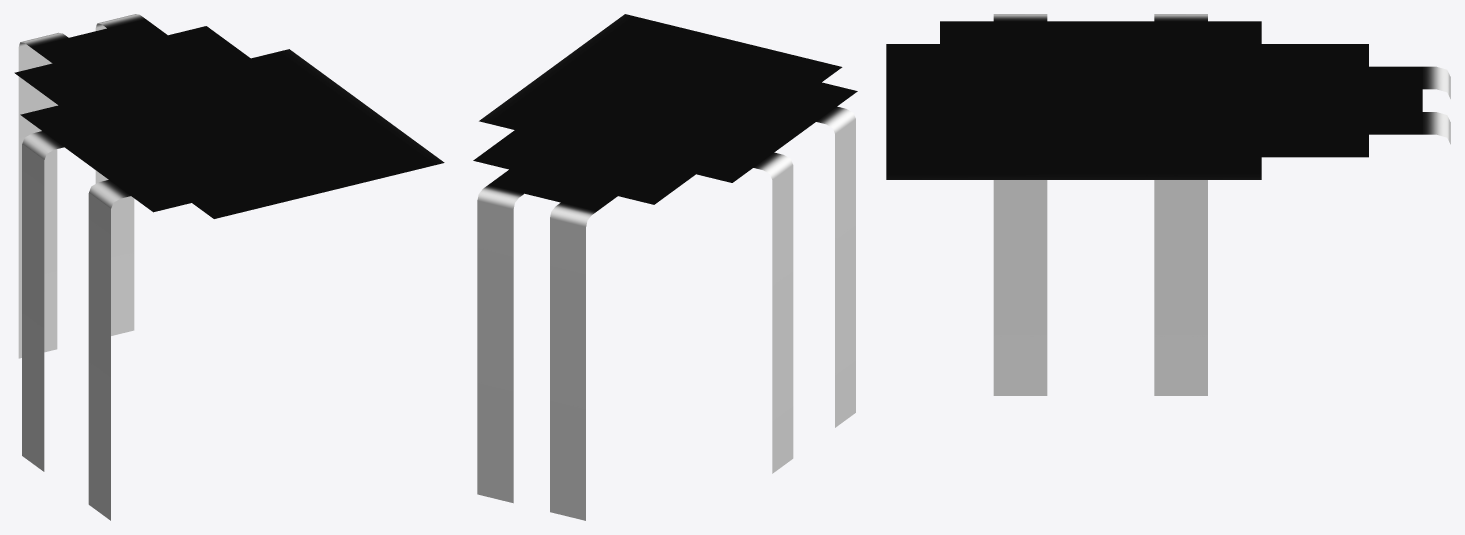
File: mirageRoom2_MESH.fbx
3 renders of one model, left to right at view 1: azimuth 30°, elevation 25°; view 2: azimuth 150°, elevation 25°; view 3: azimuth 270°, elevation 25°, orthographic. The views are drawn at different scales.
Visible parts, largest first — view 1: waterfall7; view 2: waterfall7; view 3: waterfall7.
Boxes of the visible parts, left/top/right/bottom form: waterfall7: left=14, top=14, right=444, bottom=520; waterfall7: left=473, top=14, right=857, bottom=520; waterfall7: left=886, top=14, right=1450, bottom=395.
Bounding box in the file's own units: 7.52 × 7.95 × 10.52.
1 material, 1 textured.
